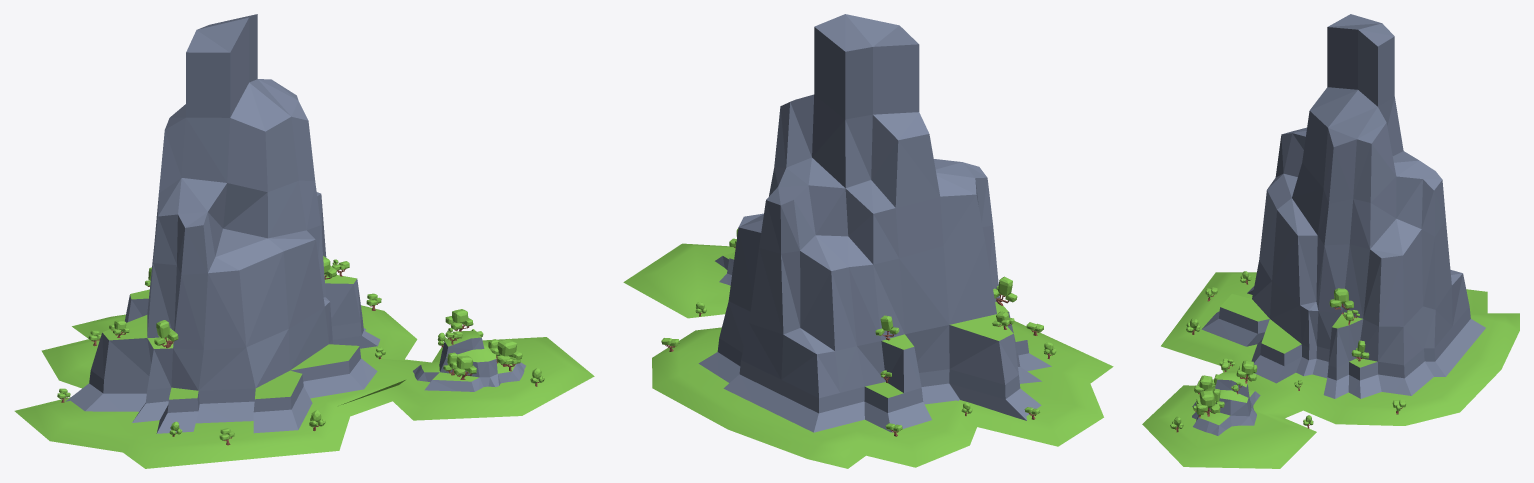
File: geostructures_no1.fbx
3 views of the same model, side by side, from view 1: azimuth 30°, elevation 25°; view 2: azimuth 150°, elevation 25°; view 3: azimuth 270°, elevation 25° (orthographic). The views are drawn at different scales.
Parts seen in each view (by area): view 1: landform_01shrubbed:geology, landform_01shrubbed:shrubs; view 2: landform_01shrubbed:geology, landform_01shrubbed:shrubs; view 3: landform_01shrubbed:geology, landform_01shrubbed:shrubs.
Part boxes in pixels (<box>): landform_01shrubbed:geology: <box>14,14,594,468</box>; landform_01shrubbed:shrubs: <box>57,256,544,445</box>; landform_01shrubbed:geology: <box>623,14,1113,468</box>; landform_01shrubbed:shrubs: <box>661,228,1056,436</box>; landform_01shrubbed:geology: <box>1142,14,1519,468</box>; landform_01shrubbed:shrubs: <box>1170,271,1406,432</box>.
Bounding box in the file's own units: 55500 × 38830 × 41000.
